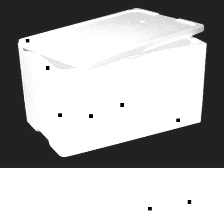foam_box: (14, 3, 211, 161)
